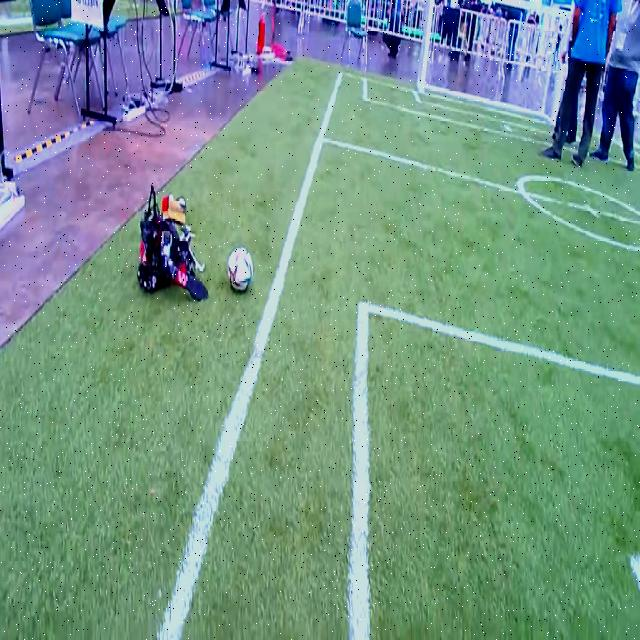ball: (228, 246, 254, 292)
